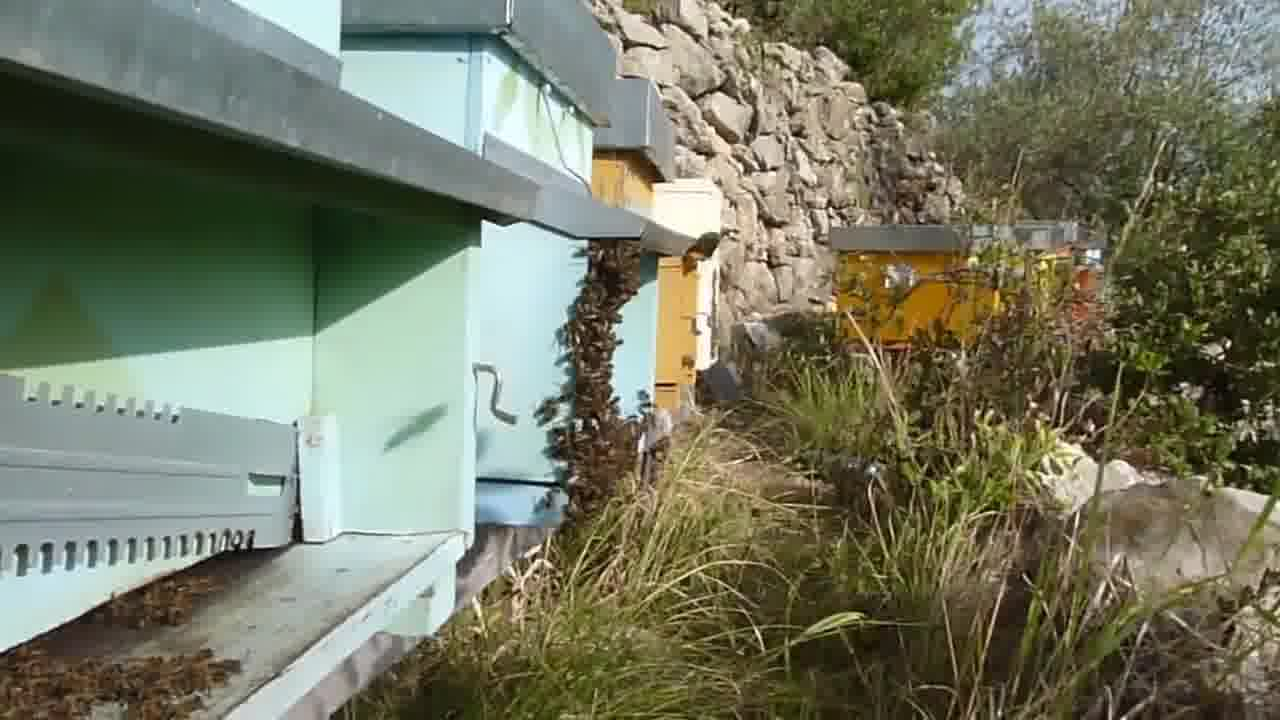bee: (8, 643, 216, 716), (564, 243, 641, 315), (535, 387, 636, 441), (547, 443, 621, 512), (108, 577, 204, 626), (554, 319, 626, 384)
hornet: (680, 229, 728, 280)
